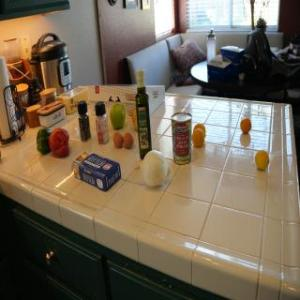bell_pepper: (34, 126, 54, 158), (50, 126, 70, 156)
egg: (124, 131, 134, 151), (112, 132, 123, 148)
onion: (138, 151, 170, 191)
